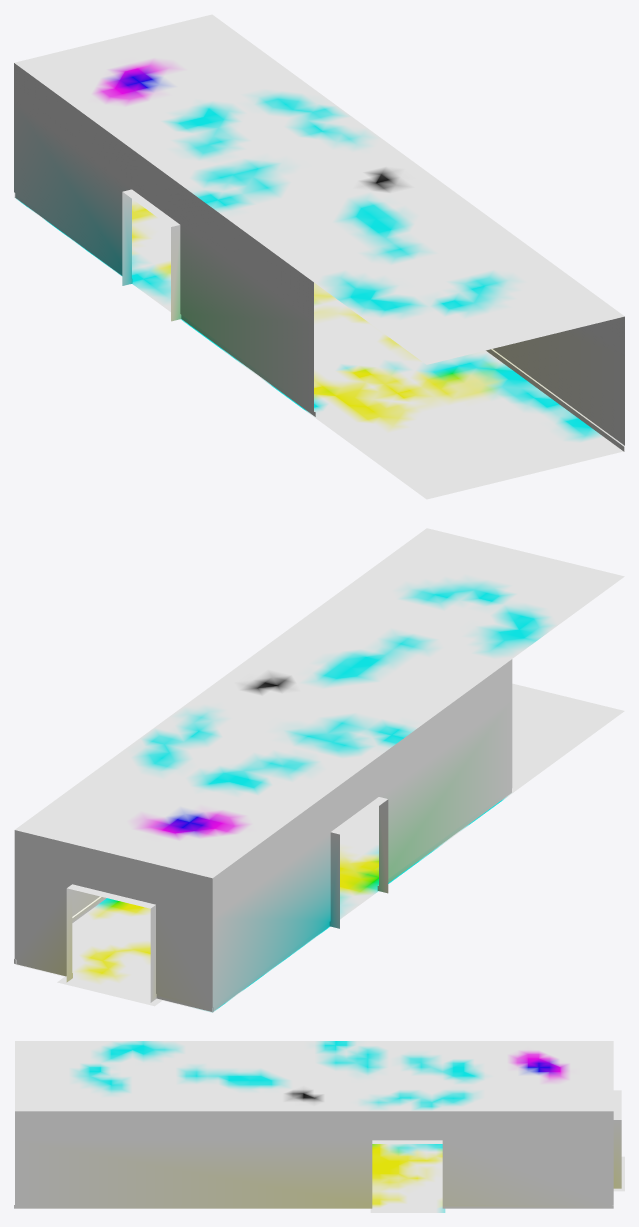
Rendered from sm_sector_01.FBX.
3 views of the same model, one above another, from view 1: azimuth 30°, elevation 25°; view 2: azimuth 150°, elevation 25°; view 3: azimuth 270°, elevation 25° (orthographic). The views are drawn at different scales.
Visible parts, largest first — view 1: sector_01; view 2: sector_01; view 3: sector_01.
Part boxes in pixels (x1=…): sector_01: x1=14, y1=14, x2=624, y2=499; sector_01: x1=14, y1=528, x2=624, y2=1012; sector_01: x1=14, y1=1041, x2=624, y2=1212.
Size of the model in its own units: 689 by 405 by 2296.
